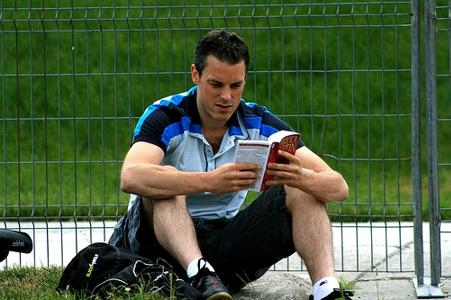person: (118, 30, 350, 300)
